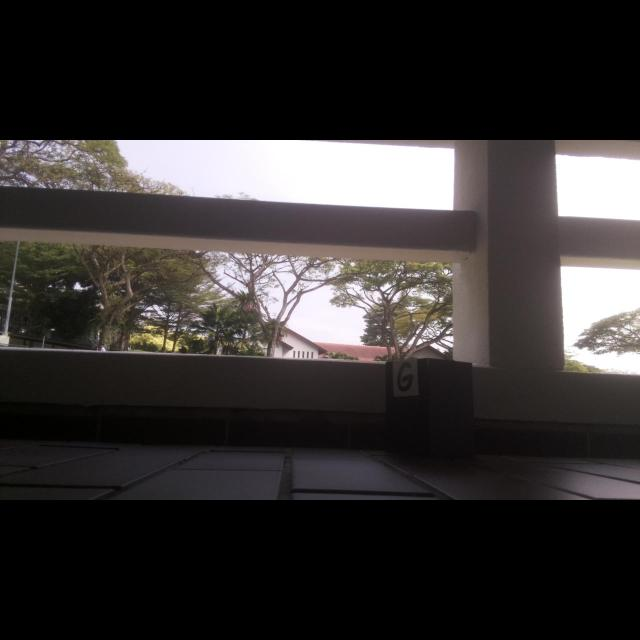G: (397, 362, 413, 391)
